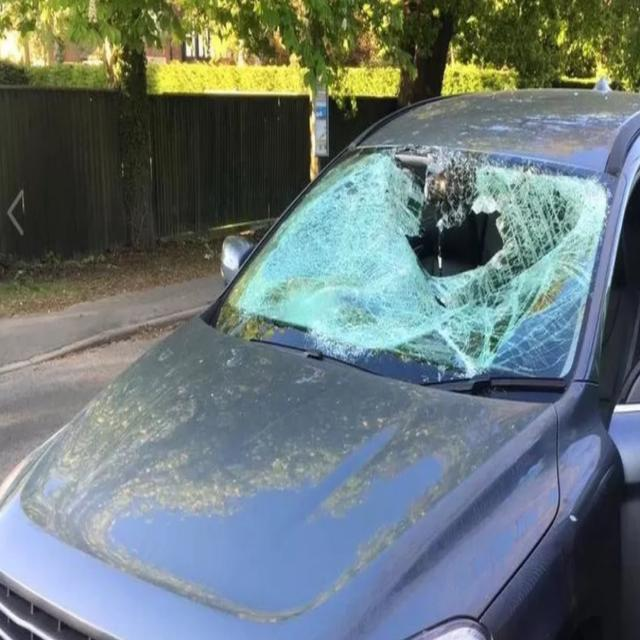Windshield: (347, 146, 589, 362), (250, 221, 355, 335)
